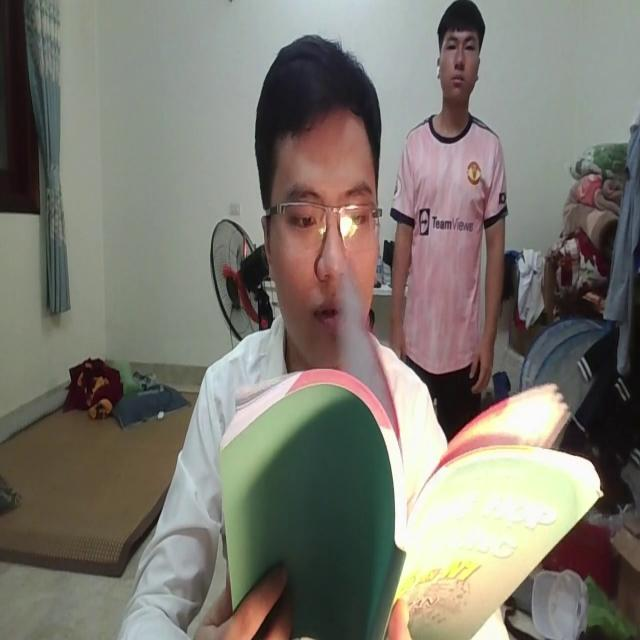book: (211, 339, 599, 640)
extra_person: (384, 0, 514, 409)
student: (119, 33, 447, 640)
